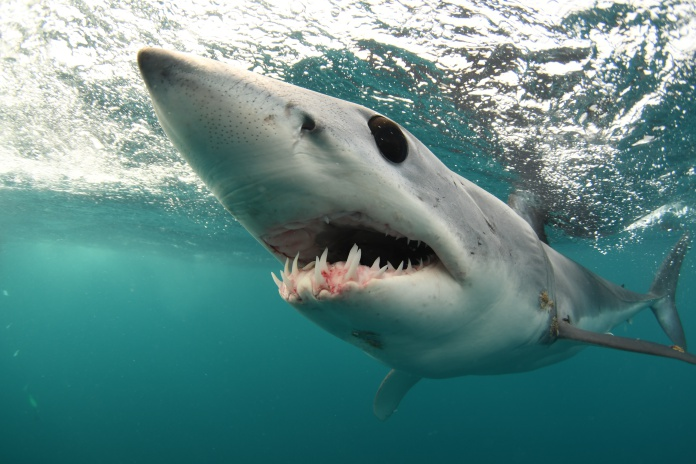Mako: (107, 30, 696, 429)
